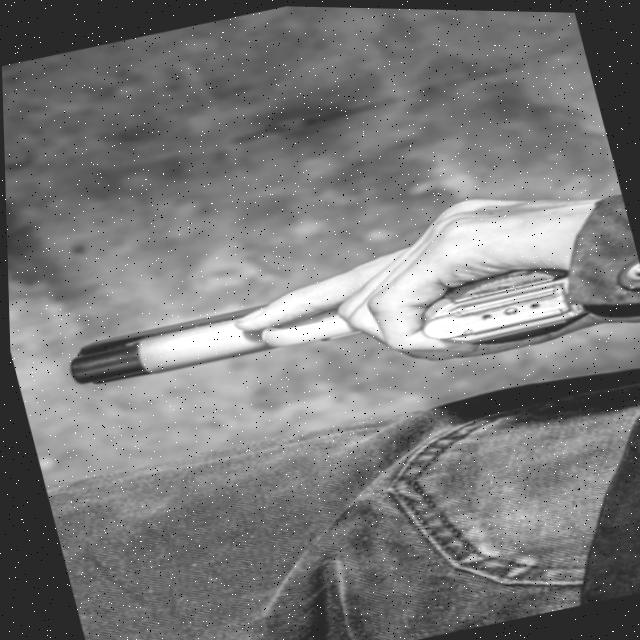pistol: (57, 230, 583, 434)
